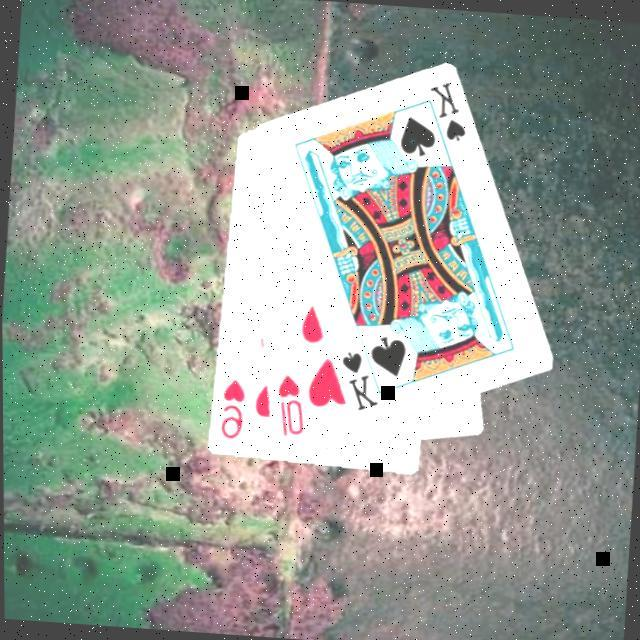10H: (268, 369, 308, 438)
9H: (214, 373, 246, 441)
KS: (417, 75, 470, 154), (332, 345, 382, 414)
